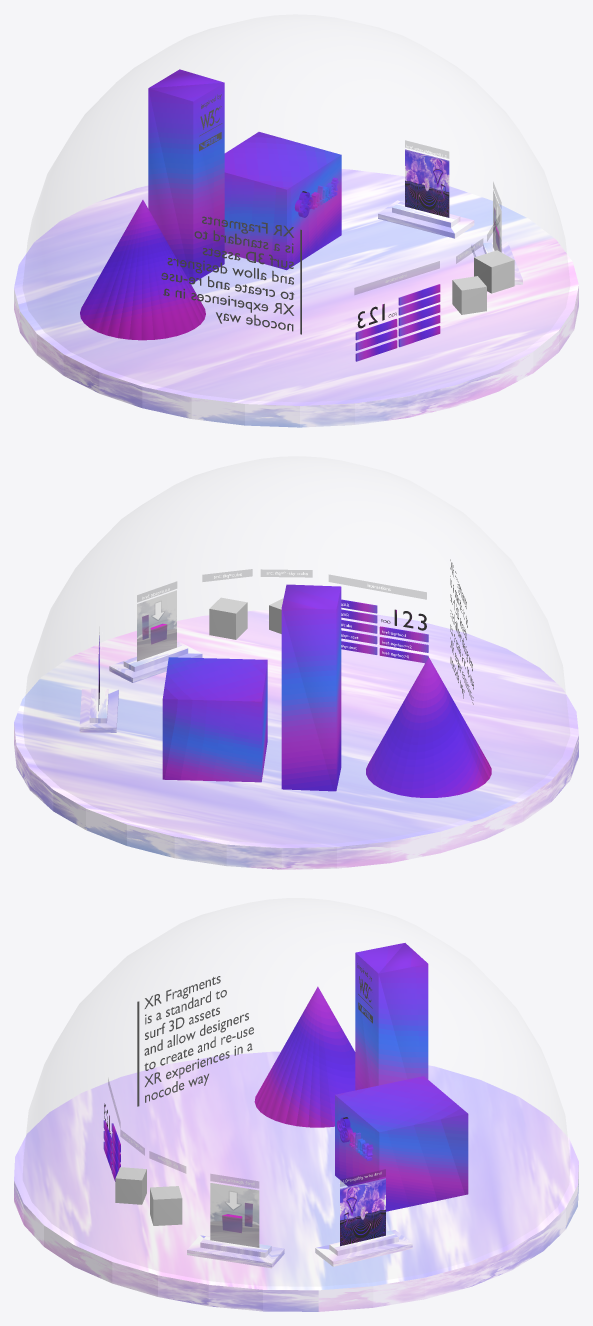
The model's file is href.gltf.
3 views of the same model, one above another, from view 1: azimuth 30°, elevation 25°; view 2: azimuth 150°, elevation 25°; view 3: azimuth 270°, elevation 25° (orthographic).
Parts seen in each view (by area): view 1: floorstone, primitives, cube, Text.001, door, step, cube.001, cube.002, logo_nlnet, title_bg.003, step.001; view 2: floorstone, primitives, cube, door.001, step, step.001, cube.001, Text.001, title_bg.003; view 3: floorstone, primitives, cube, door.001, Text.001, door, step.001, step, cube.001, cube.002, logo_nlnet.
Boxes of the visible parts, x1,y1,x2,y2 form: floorstone: [14, 169, 578, 427]; primitives: [80, 69, 224, 340]; cube: [224, 132, 341, 270]; Text.001: [161, 216, 294, 331]; door: [405, 149, 449, 217]; step: [378, 200, 474, 238]; cube.001: [474, 250, 514, 293]; cube.002: [452, 276, 486, 314]; logo_nlnet: [294, 177, 338, 217]; title_bg.003: [355, 261, 439, 294]; step.001: [471, 242, 522, 285]; floorstone: [14, 610, 578, 869]; primitives: [281, 584, 491, 797]; cube: [162, 657, 267, 782]; door.001: [137, 590, 176, 661]; step: [79, 688, 118, 732]; step.001: [109, 642, 202, 682]; cube.001: [209, 597, 247, 639]; Text.001: [450, 559, 473, 704]; title_bg.003: [329, 575, 426, 598]; floorstone: [14, 1051, 578, 1311]; primitives: [254, 943, 428, 1127]; cube: [335, 1076, 468, 1211]; door.001: [210, 1183, 259, 1247]; Text.001: [144, 976, 253, 1102]; door: [340, 1178, 385, 1246]; step.001: [187, 1235, 284, 1268]; step: [315, 1230, 412, 1266]; cube.001: [150, 1186, 182, 1225]; cube.002: [115, 1167, 146, 1204]; logo_nlnet: [337, 1117, 373, 1160].
Size of what is drawn, in the model's own units: 20.66 by 10.86 by 20.66.
Materials: 9 (3 with a texture image).
